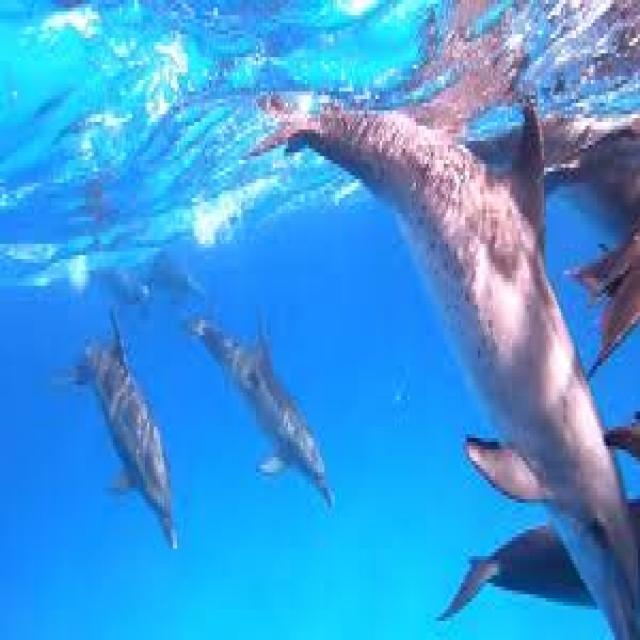dolphin: (282, 42, 636, 625), (55, 316, 184, 591), (194, 297, 339, 507)
